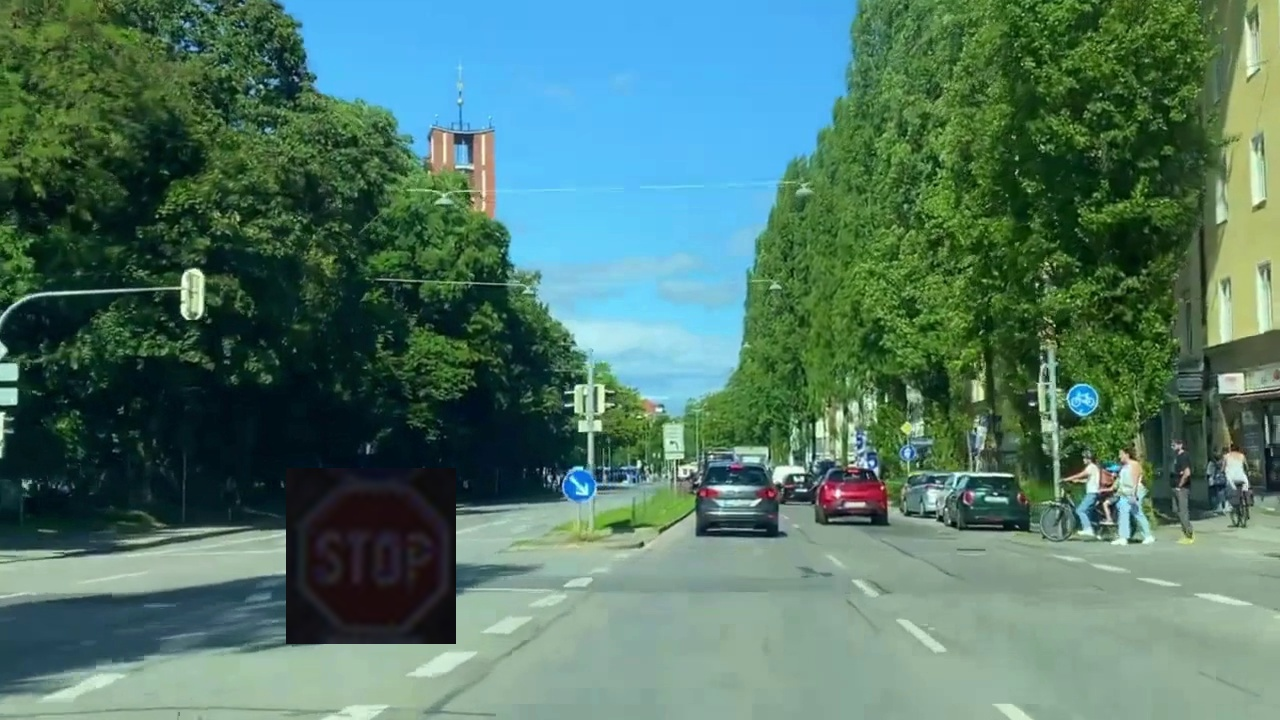Stop: (286, 468, 456, 644)
